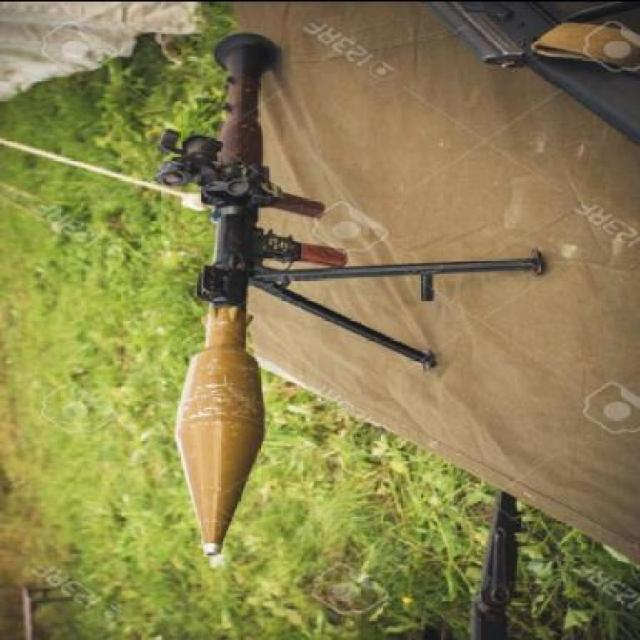weapon: (148, 28, 548, 568)
